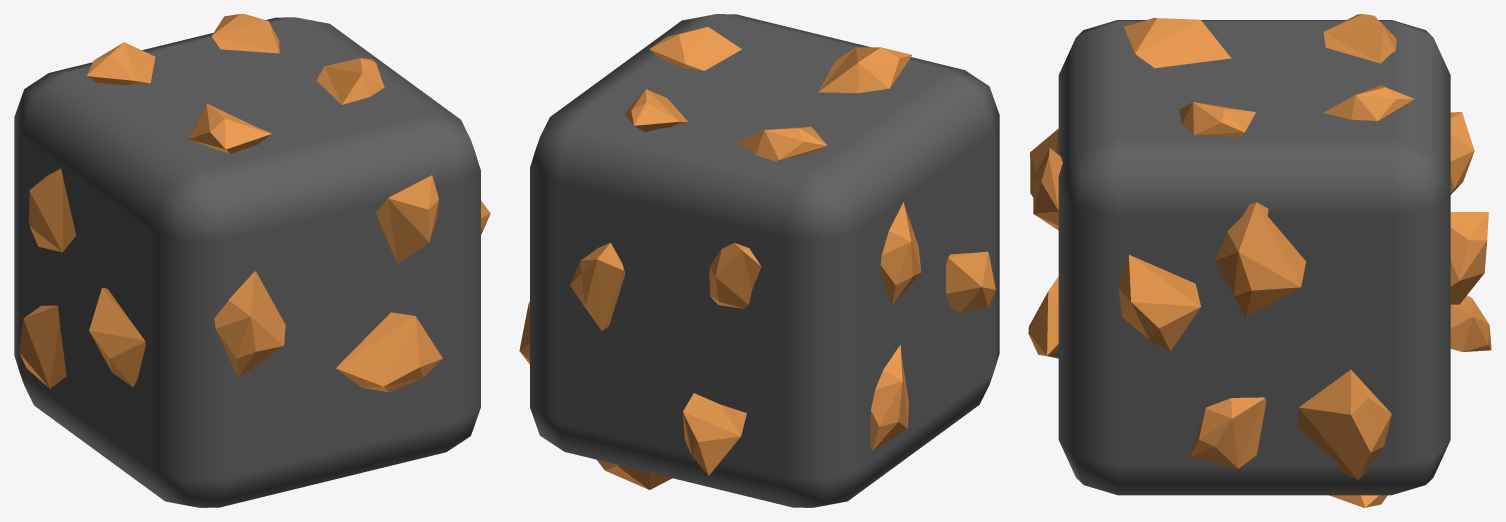
File: SM_Gold.fbx
3 renders of one model, left to right at view 1: azimuth 30°, elevation 25°; view 2: azimuth 150°, elevation 25°; view 3: azimuth 270°, elevation 25°, orthographic. The views are drawn at different scales.
Parts seen in each view (by area): view 1: Cube.001; view 2: Cube.001; view 3: Cube.001.
Part boxes in pixels (x1=…): Cube.001: x1=14, y1=14, x2=490, y2=507; Cube.001: x1=519, y1=14, x2=999, y2=507; Cube.001: x1=1028, y1=14, x2=1491, y2=507.
Size of the model in its own units: 235 by 235 by 239.
